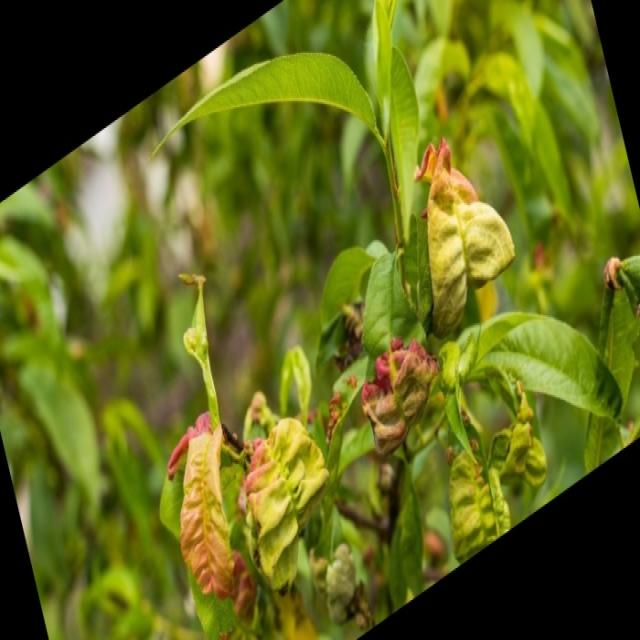peach_leaf_curl: (164, 364, 344, 634), (359, 333, 439, 456)
